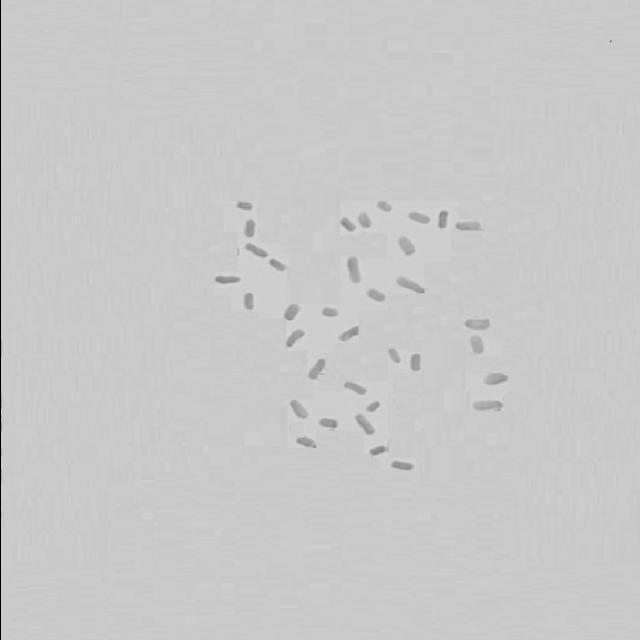E-coli: (343, 254, 363, 286), (302, 357, 327, 381), (283, 398, 311, 418), (352, 414, 378, 434), (235, 219, 262, 237), (396, 233, 416, 256), (396, 277, 424, 293), (455, 219, 483, 235), (334, 216, 356, 236), (313, 416, 340, 432), (472, 397, 502, 411), (239, 242, 269, 256), (280, 301, 302, 320), (284, 329, 307, 347), (210, 274, 244, 286), (463, 317, 491, 331), (335, 328, 361, 343), (267, 258, 293, 273), (407, 209, 432, 224), (341, 382, 367, 396), (435, 209, 451, 231), (389, 460, 417, 472), (481, 372, 509, 384), (384, 346, 402, 364), (240, 293, 258, 311), (372, 199, 394, 213), (293, 436, 316, 449), (355, 211, 373, 227), (368, 444, 390, 456), (367, 289, 387, 302), (468, 337, 484, 353), (366, 400, 384, 414), (233, 201, 256, 211), (409, 354, 423, 370), (319, 306, 339, 317)
